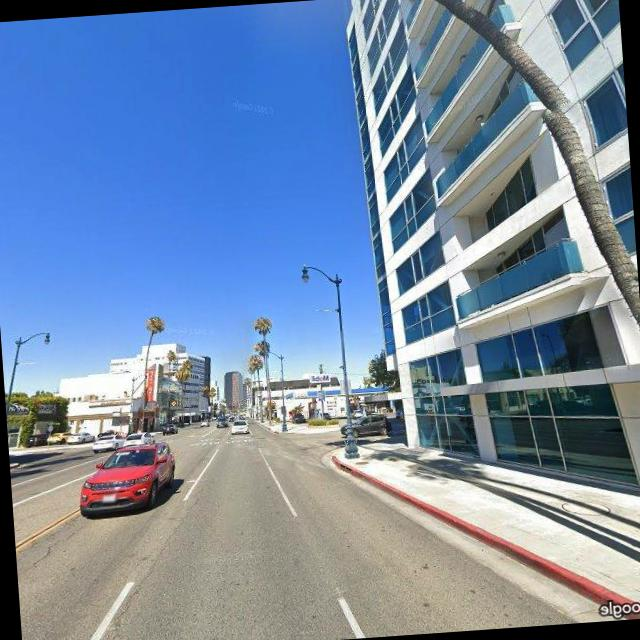crack: (28, 521, 84, 567)
